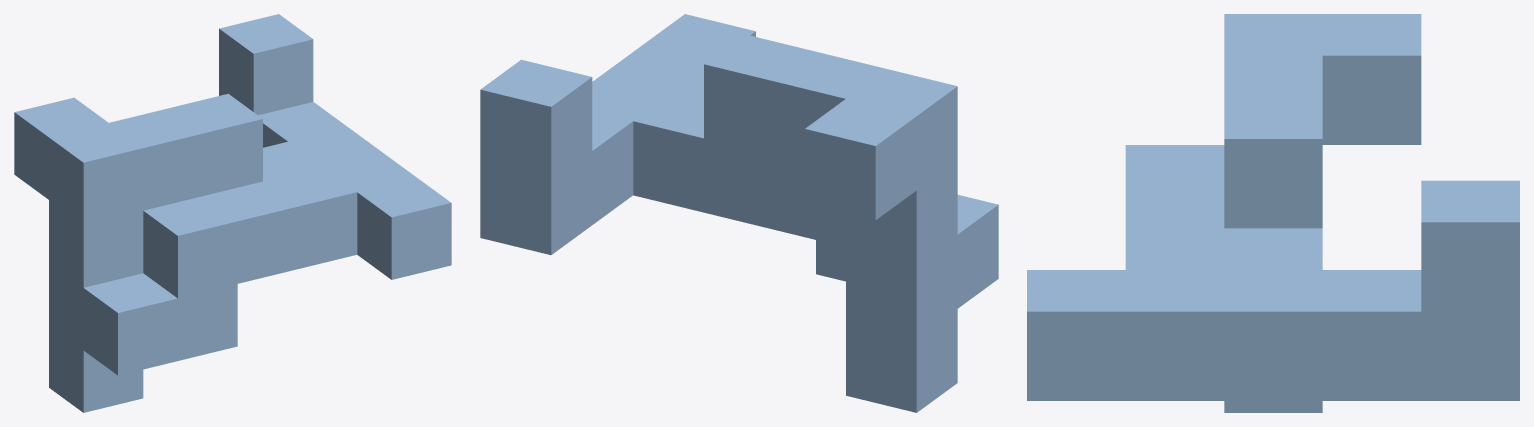
The picture shows the model from 3 angles, left to right: view 1: azimuth 30°, elevation 25°; view 2: azimuth 150°, elevation 25°; view 3: azimuth 270°, elevation 25°; orthographic projection. The views are drawn at different scales.
Parts seen in each view (by area): view 1: _changes (2).016; view 2: _changes (2).016; view 3: _changes (2).016.
Part boxes in pixels (x1,y1,x2,y2): _changes (2).016: (14,14,451,412); _changes (2).016: (480,14,998,412); _changes (2).016: (1027,14,1519,412).
Bounding box in the file's own units: 0.1999 × 0.1599 × 0.1999.
